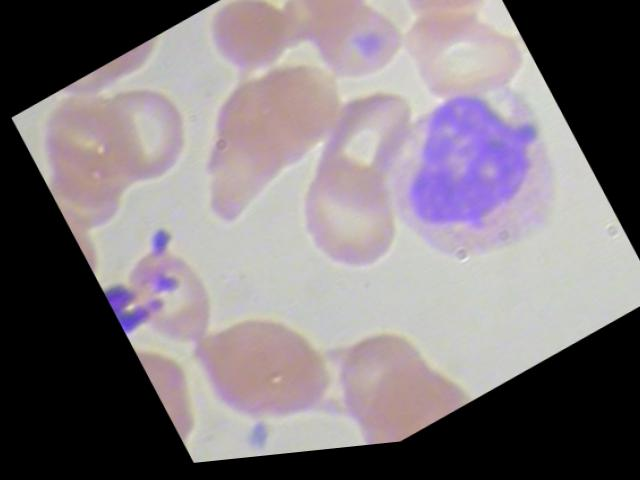Platelets: (226, 417, 276, 462), (136, 223, 177, 265)
Red Blood Cells: (170, 285, 345, 466), (279, 155, 410, 300), (400, 5, 534, 137), (79, 67, 204, 204), (103, 229, 222, 372), (322, 349, 468, 454), (290, 0, 414, 111), (193, 0, 305, 102), (81, 29, 186, 99), (369, 0, 495, 57)
White Blood Cells: (343, 58, 593, 330)
